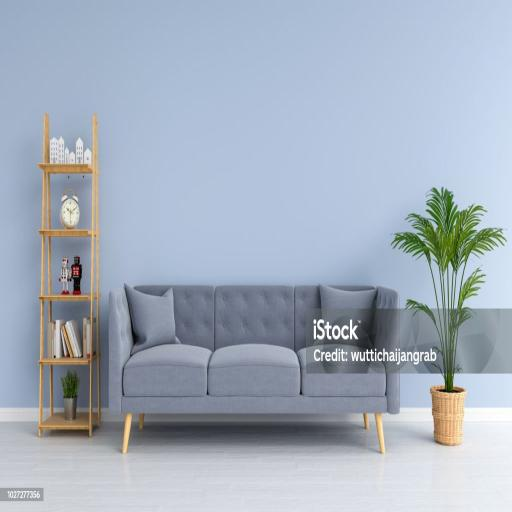back_cushion: (169, 286, 403, 351)
base: (122, 395, 386, 413)
left_arm: (374, 287, 398, 352), (384, 362, 399, 413)
legs: (374, 413, 384, 453), (122, 413, 132, 452), (138, 413, 144, 429), (363, 413, 368, 429)
right_arm: (109, 289, 134, 412)
seat_cushion: (123, 344, 386, 397)
stallion-sofa2: (109, 285, 399, 452)
